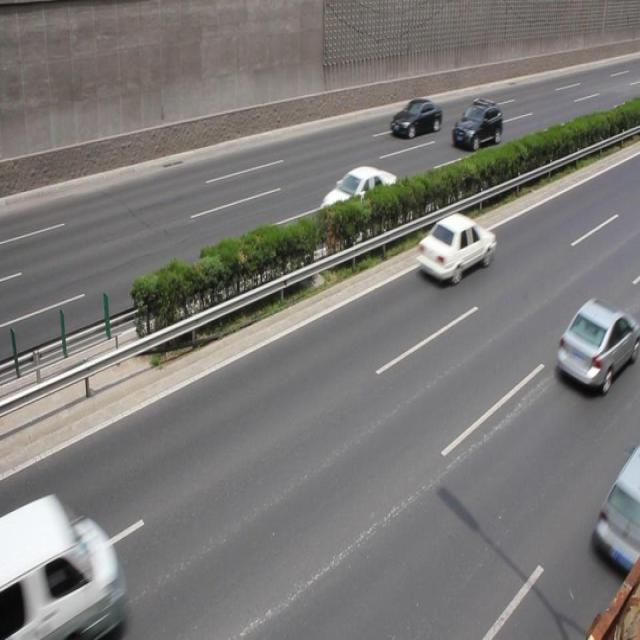car: (555, 293, 640, 393), (415, 212, 497, 286), (318, 167, 397, 231), (452, 100, 502, 152), (389, 97, 442, 140)
truck: (1, 488, 128, 640)
